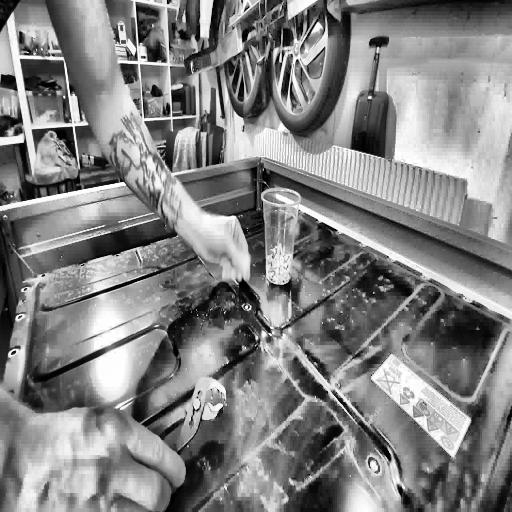nut: (261, 240, 296, 286), (239, 256, 253, 288)
